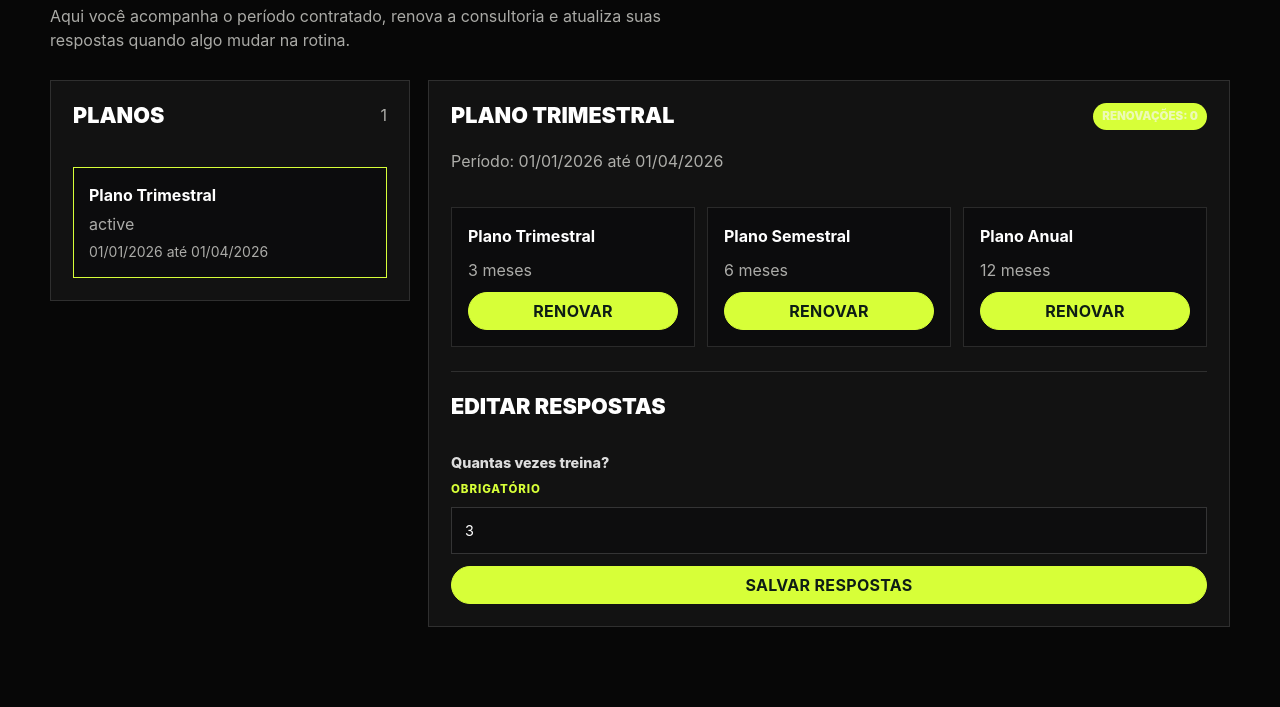
it: SubscriberArea › saves edited answers and signals the admin
(page scrolled)
Replace the text in the number field labelled "Quantas vezes treina? obrigatório" with "4": {"x": 829, "y": 530} [451, 507, 1207, 554]
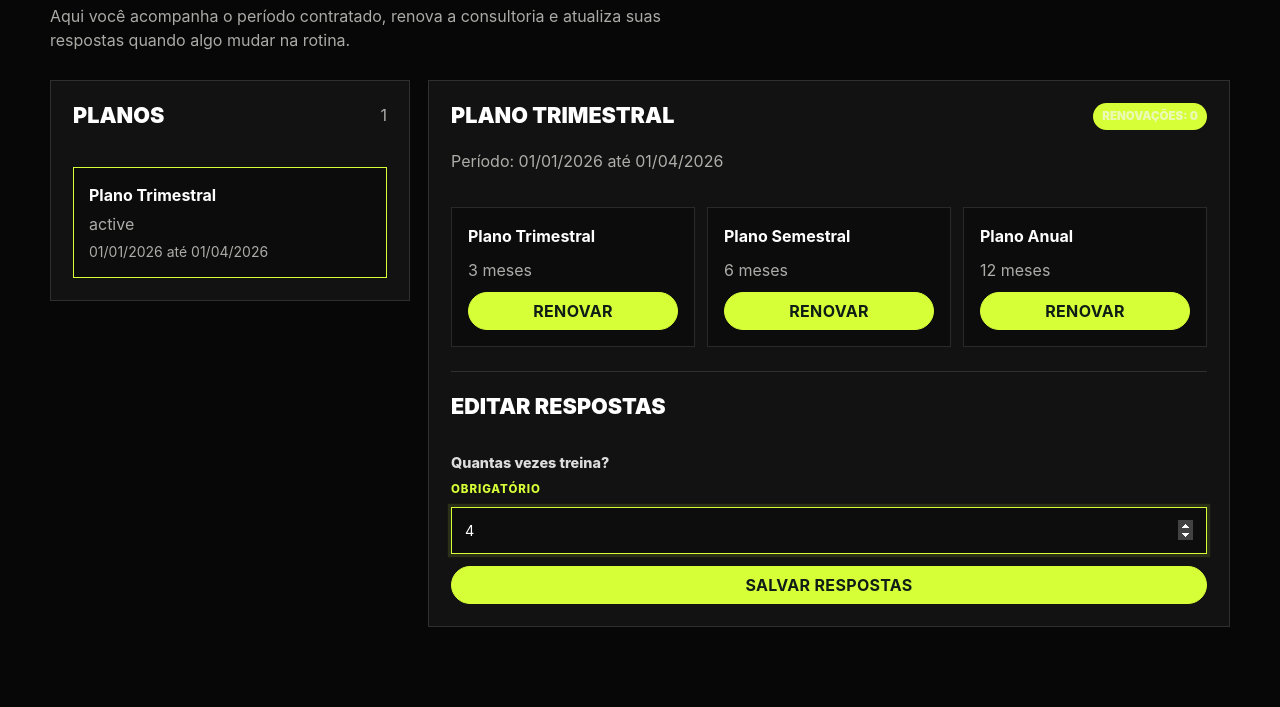
Click the button "Salvar respostas": {"x": 829, "y": 585} [451, 566, 1207, 604]
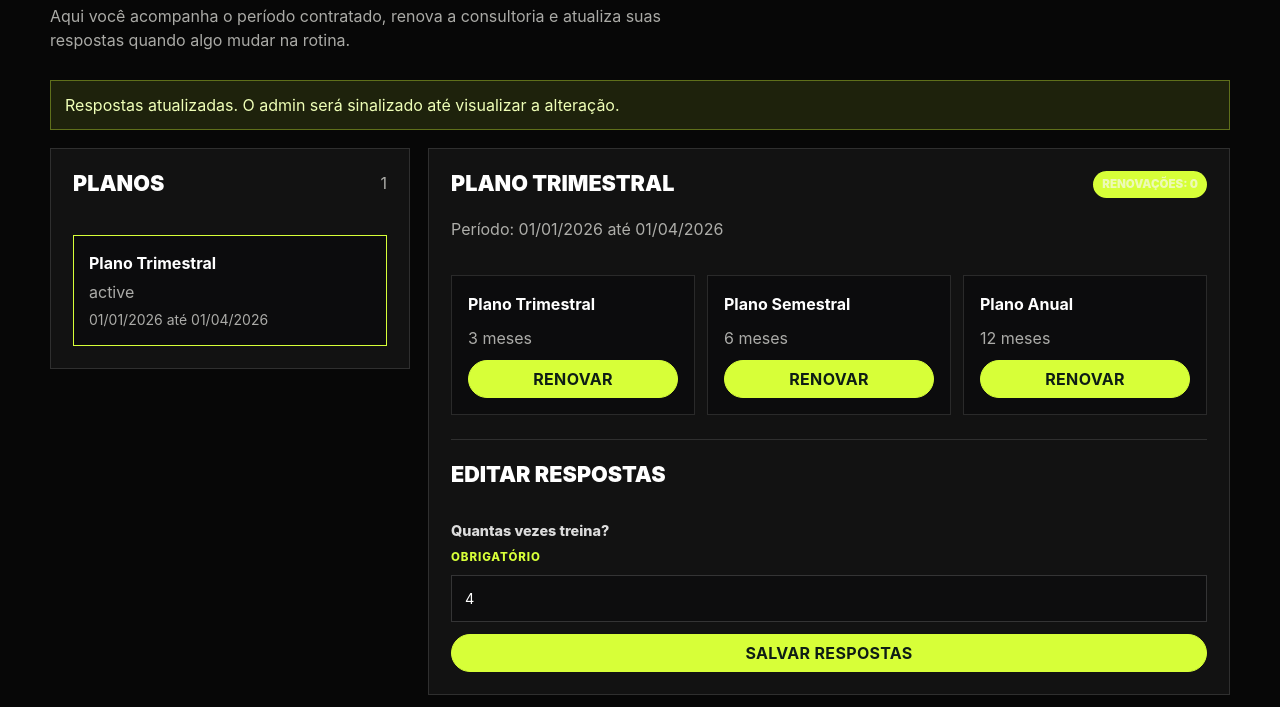
Result: the text "admin será sinalizado" is shown at [65, 95, 620, 115]
